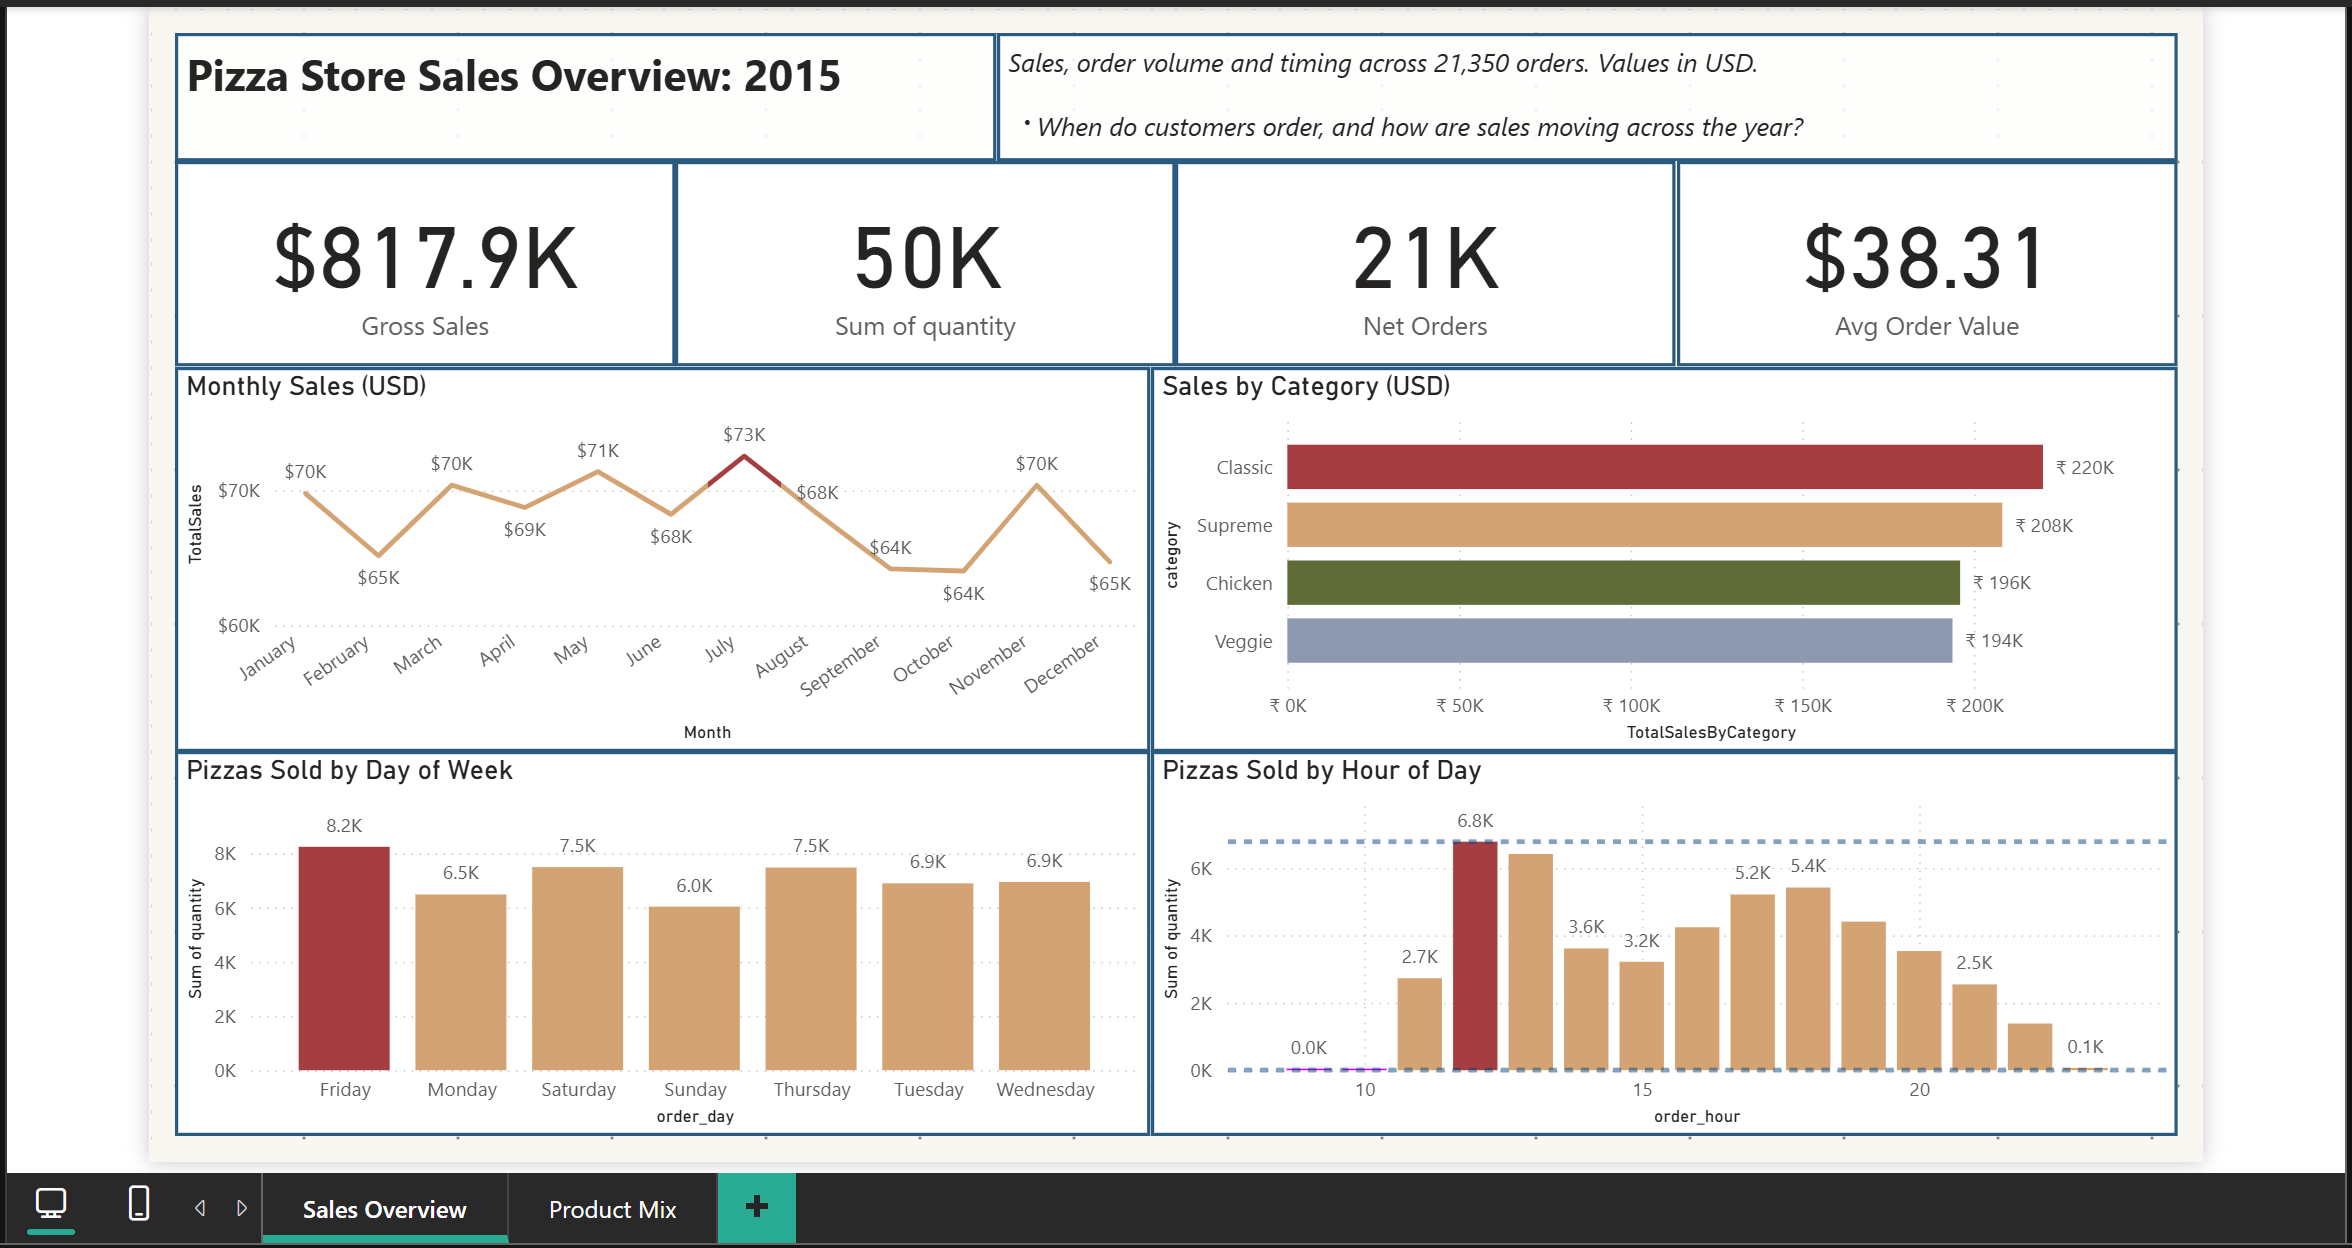

The dashboard page shown, as its layout file describes it:
{"tool":"powerbi","page":{"name":"Sales Overview","canvas":[1280,720],"ordinal":0},"visuals":[{"type":"textbox","box":[528,16,736,80],"z":0,"group":"g1"},{"type":"card","fields":{"Values":["_Measures.Gross Sales"]},"box":[16,96,312,128],"z":0,"group":"g2"},{"type":"clusteredColumnChart","title":"Pizzas Sold by Hour of Day","fields":{"Category":["orders.order_hour"],"Y":["Sum(order details.quantity)"]},"box":[624,464,640,240],"z":0},{"type":"textbox","box":[16,16,512,80],"z":1000,"group":"g1"},{"type":"card","fields":{"Values":["Sum(order details.quantity)"]},"box":[328,96,312,128],"z":1000,"group":"g2"},{"type":"clusteredColumnChart","title":"Pizzas Sold by Day of Week","fields":{"Category":["orders.order_day"],"Y":["Sum(order details.quantity)"]},"box":[16,464,608,240],"z":1000},{"type":"card","fields":{"Values":["_Measures.Net Orders"]},"box":[640,96,312,128],"z":2000,"group":"g2"},{"type":"clusteredBarChart","title":"Sales by Category (USD)","fields":{"Y":["order details.TotalSalesByCategory"],"Category":["pizza types.category"]},"box":[624,224,640,240],"z":2000},{"type":"group","id":"g1","title":"Group 1","box":[16,16,1248,80],"z":3000},{"type":"card","fields":{"Values":["_Measures.Avg Order Value"]},"box":[952,96,312,128],"z":3000,"group":"g2"},{"type":"lineChart","title":"Monthly Sales (USD)","fields":{"Category":["orders.date.Variation.Date Hierarchy.Month"],"Y":["order details.TotalSales"]},"box":[16,224,608,240],"z":4000},{"type":"group","id":"g2","title":"Group 2","box":[16,96,1248,128],"z":5000}]}

Visuals, with their boxes on the page's 1280x720 design canvas (x1, y1, x2, y2). These are canvas units, not pixel positions in the 2352x1248 screenshot, which may show the page scaled, cropped or inside an application window:
textbox: bbox(528, 16, 1264, 96)
card - _Measures.Gross Sales: bbox(16, 96, 328, 224)
"Pizzas Sold by Hour of Day" clusteredColumnChart: bbox(624, 464, 1264, 704)
textbox: bbox(16, 16, 528, 96)
card - Sum(order details.quantity): bbox(328, 96, 640, 224)
"Pizzas Sold by Day of Week" clusteredColumnChart: bbox(16, 464, 624, 704)
card - _Measures.Net Orders: bbox(640, 96, 952, 224)
"Sales by Category (USD)" clusteredBarChart: bbox(624, 224, 1264, 464)
"Group 1" group: bbox(16, 16, 1264, 96)
card - _Measures.Avg Order Value: bbox(952, 96, 1264, 224)
"Monthly Sales (USD)" lineChart: bbox(16, 224, 624, 464)
"Group 2" group: bbox(16, 96, 1264, 224)
